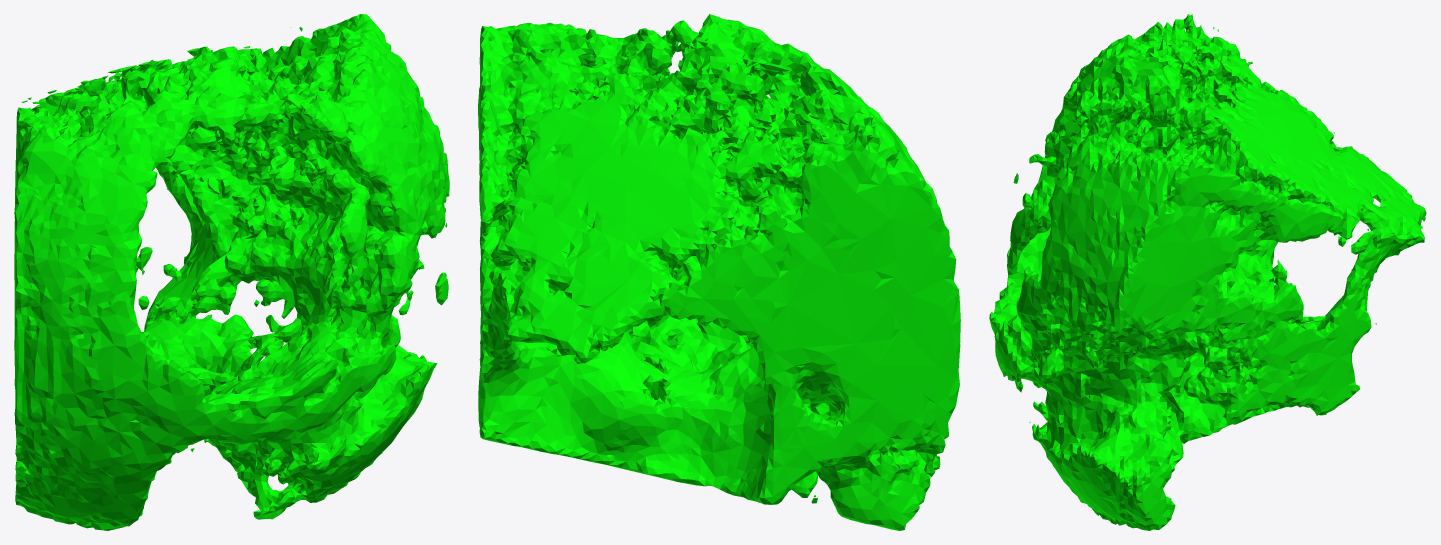
File: B939XXXX-1_base_12.obj
The picture shows the model from 3 angles, left to right: view 1: azimuth 30°, elevation 25°; view 2: azimuth 150°, elevation 25°; view 3: azimuth 270°, elevation 25°; orthographic projection. The views are drawn at different scales.
Parts seen in each view (by area): view 1: 12_base; view 2: 12_base; view 3: 12_base.
Boxes of the visible parts, <box> form: 12_base: <box>14,14,449,530</box>; 12_base: <box>478,14,960,530</box>; 12_base: <box>989,14,1426,530</box>.
Bounding box in the file's own units: 218 × 215 × 204.
